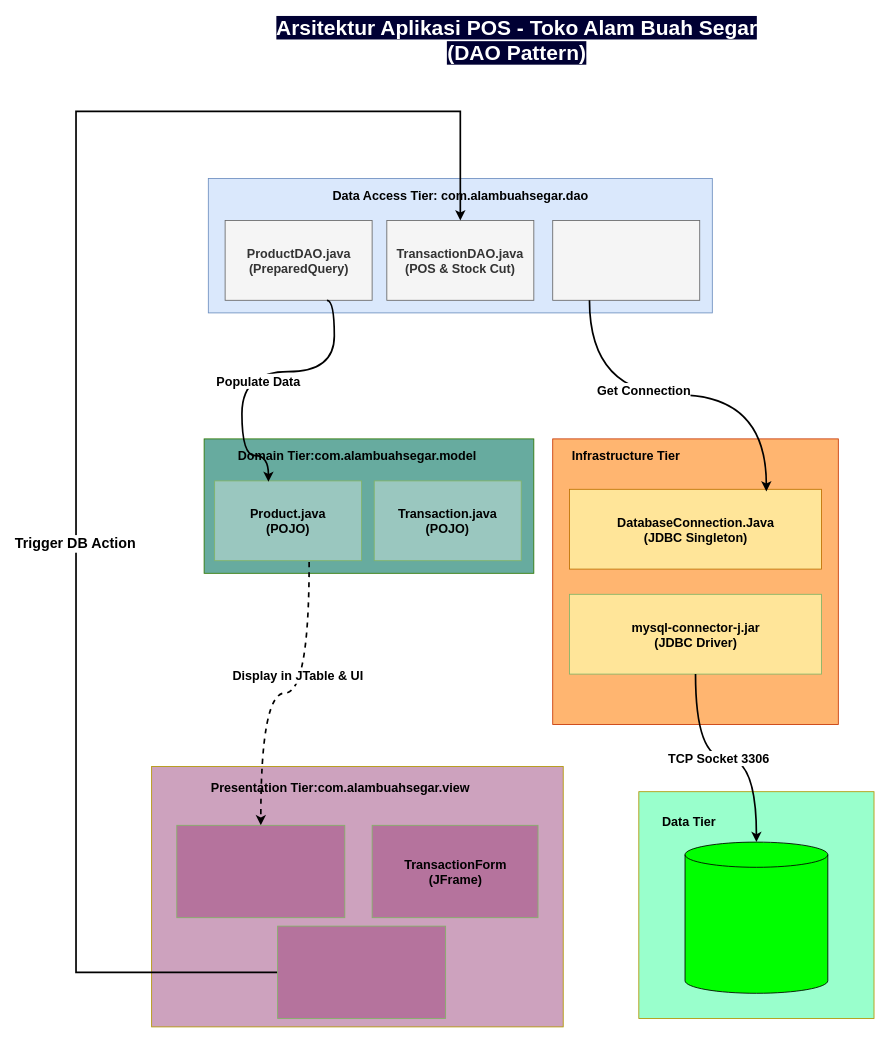
This 889x1042 diagram has some shape labels left out. Each missing label, with the centre of its shape:
Button Action Listeners (UI Events): (361,971)
MainForm.Java (JFrame): (260,871)
MySQL Server (localhost:3306): (756,917)
UserDAO.java: (626,260)
